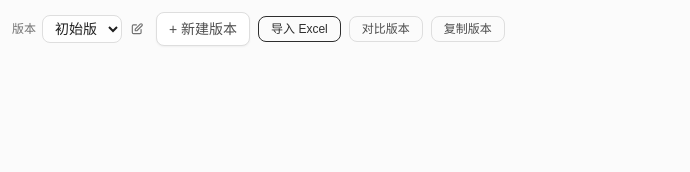
Test case: CostLedgerBatchBar › 点击新建版本应显示输入框
Click the button "+ 新建版本".
click(203, 29)  # box [156,12,250,46]
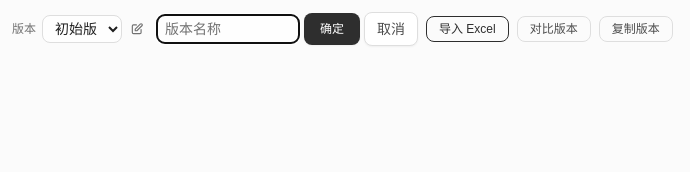
Check: the field with placeholder "版本名称" is shown, box [156,14,300,44]
